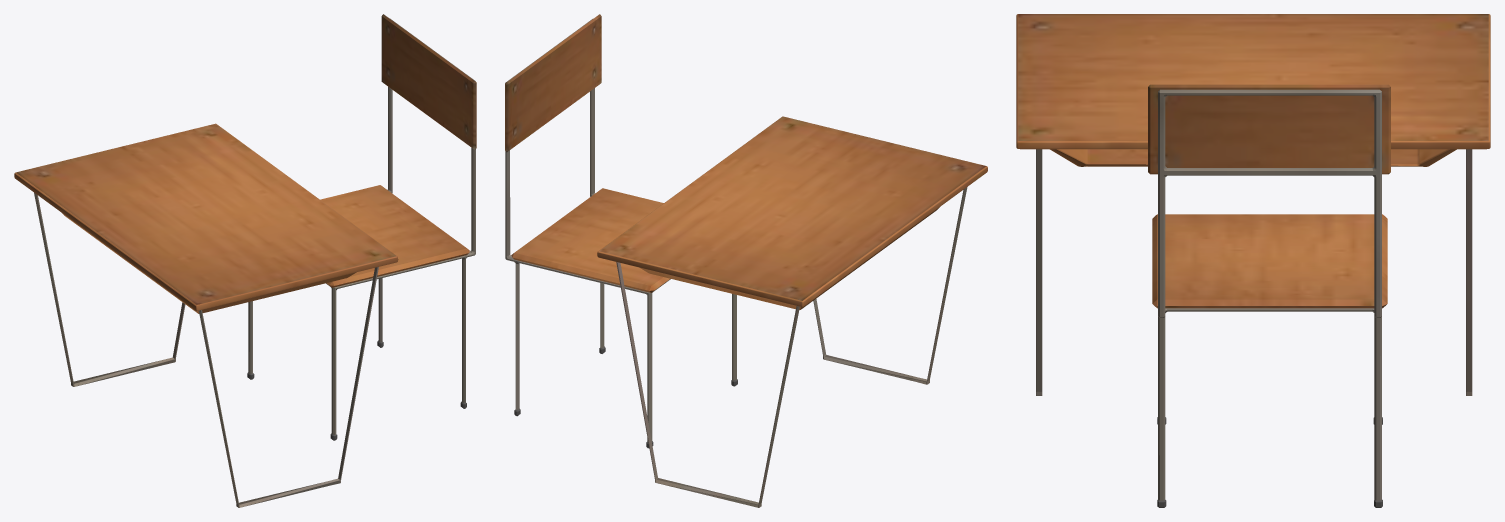
File: school-desk.gltf
3 views of the same model, side by side, from view 1: azimuth 30°, elevation 25°; view 2: azimuth 150°, elevation 25°; view 3: azimuth 270°, elevation 25° (orthographic). The views are drawn at different scales.
Parts seen in each view (by area): view 1: polySurface15, polySurface22; view 2: polySurface15, polySurface22; view 3: polySurface15, polySurface22.
Boxes of the visible parts, x1,y1,x2,y2 form: polySurface15: (14,123,398,507); polySurface22: (247,14,476,440); polySurface15: (597,116,987,507); polySurface22: (505,14,737,448); polySurface15: (1016,14,1490,395); polySurface22: (1148,84,1390,507).
Bounding box in the file's own units: 0.8537 × 0.8 × 0.8051.
2 materials, 1 textured.
